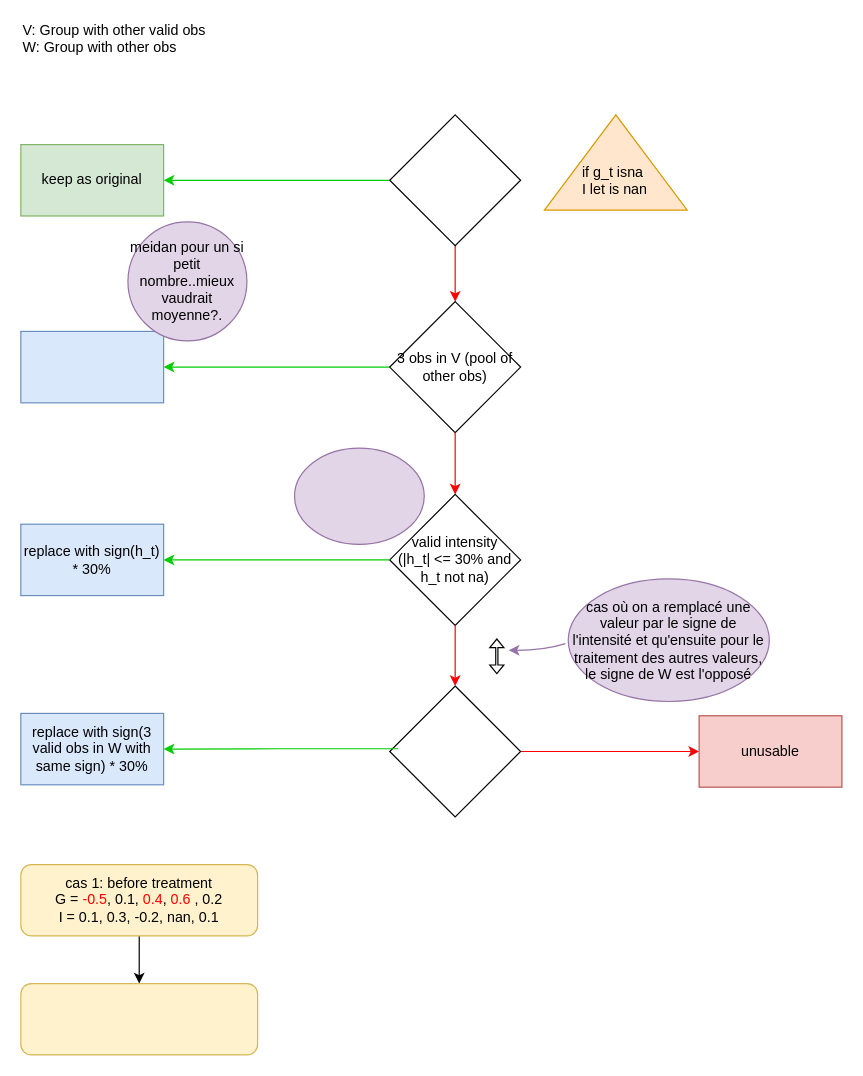
This 863x1076 diagram has some shape labels left out. The centre of each missing label's shape, as x and y in pixels:
3 obs in W have same sign (this sign = direction): point (455, 751)
cas 1: after treatment v.VB 0.3 , 0.3 , -0.3, 0.3 , 0.2: point (139, 1018)
g_t valid (|g_t| <= 30% and g_t not na): point (455, 180)
if h_t == 0 ? pour l'instant on remplace par 0: point (358, 495)
replace with median of the 3: point (92, 366)
